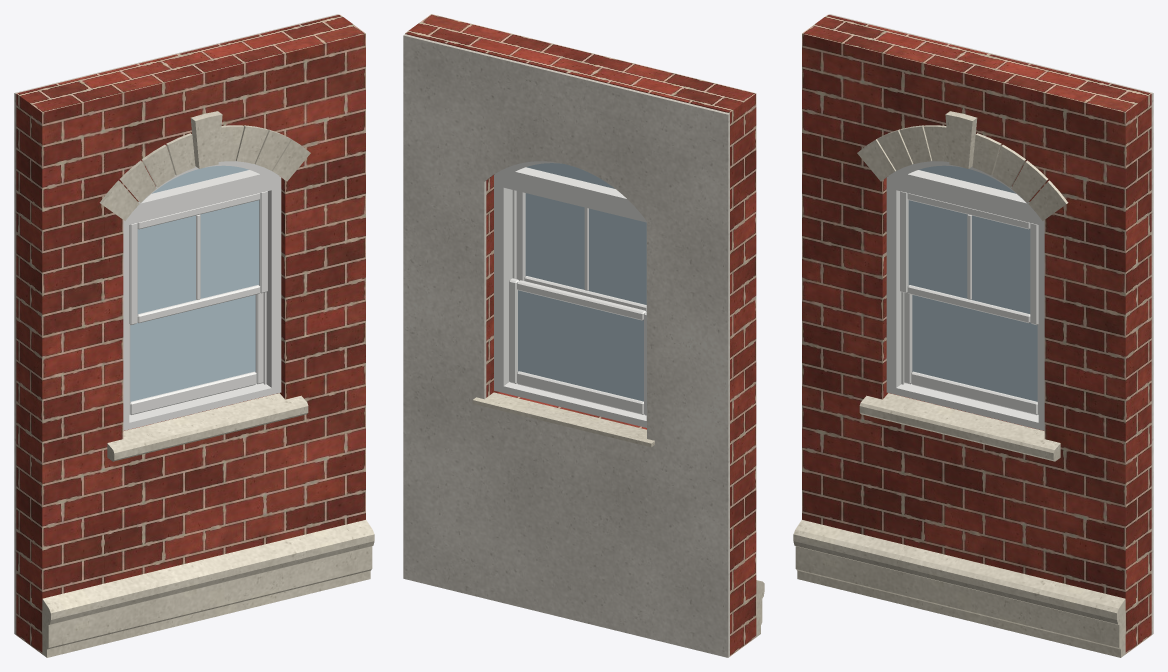
Rendered from o_u1_window.glb.
3 views of the same model, side by side, from view 1: azimuth 30°, elevation 25°; view 2: azimuth 150°, elevation 25°; view 3: azimuth 330°, elevation 25° (orthographic).
Parts seen in each view (by area): view 1: o_u1_window_brick, o_u1_window_trim, o_u1_window_glass, o_u1_window_frame, o_u1_window_sash, o_u1_window_plaster; view 2: o_u1_window_plaster, o_u1_window_brick, o_u1_window_glass, o_u1_window_frame, o_u1_window_sash, o_u1_window_trim; view 3: o_u1_window_brick, o_u1_window_trim, o_u1_window_glass, o_u1_window_frame, o_u1_window_sash, o_u1_window_plaster.
Part boxes in pixels (x1,y1,x2,y2): o_u1_window_brick: [16, 14, 365, 653]; o_u1_window_trim: [42, 111, 374, 657]; o_u1_window_glass: [130, 165, 259, 401]; o_u1_window_frame: [123, 161, 281, 430]; o_u1_window_sash: [129, 191, 267, 414]; o_u1_window_plaster: [14, 14, 338, 634]; o_u1_window_plaster: [403, 34, 729, 657]; o_u1_window_brick: [405, 14, 756, 656]; o_u1_window_glass: [518, 163, 646, 401]; o_u1_window_frame: [494, 161, 646, 427]; o_u1_window_sash: [509, 191, 646, 415]; o_u1_window_trim: [472, 392, 764, 636]; o_u1_window_brick: [802, 14, 1151, 653]; o_u1_window_trim: [793, 111, 1125, 657]; o_u1_window_glass: [908, 165, 1037, 401]; o_u1_window_frame: [886, 161, 1044, 430]; o_u1_window_sash: [900, 191, 1038, 414]; o_u1_window_plaster: [829, 14, 1153, 634].
Bounding box in the file's own units: 2 × 3.2 × 0.43.
Materials: 6 (3 with a texture image).
